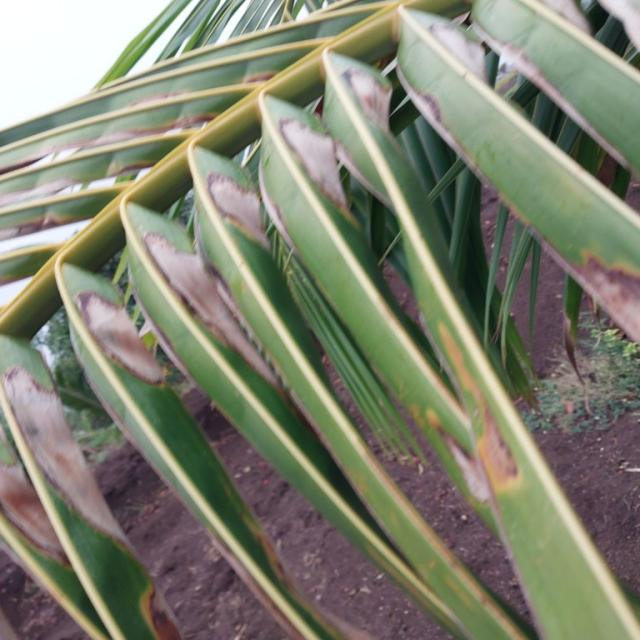gray leaf spot: (0, 6, 548, 571)
